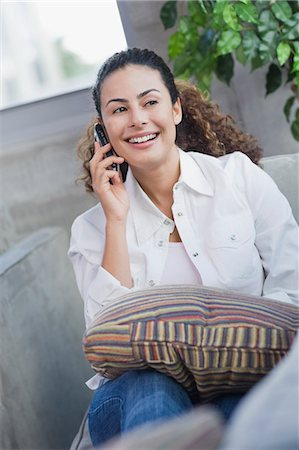phone: (87, 124, 130, 193)
talk: (78, 86, 176, 210)
